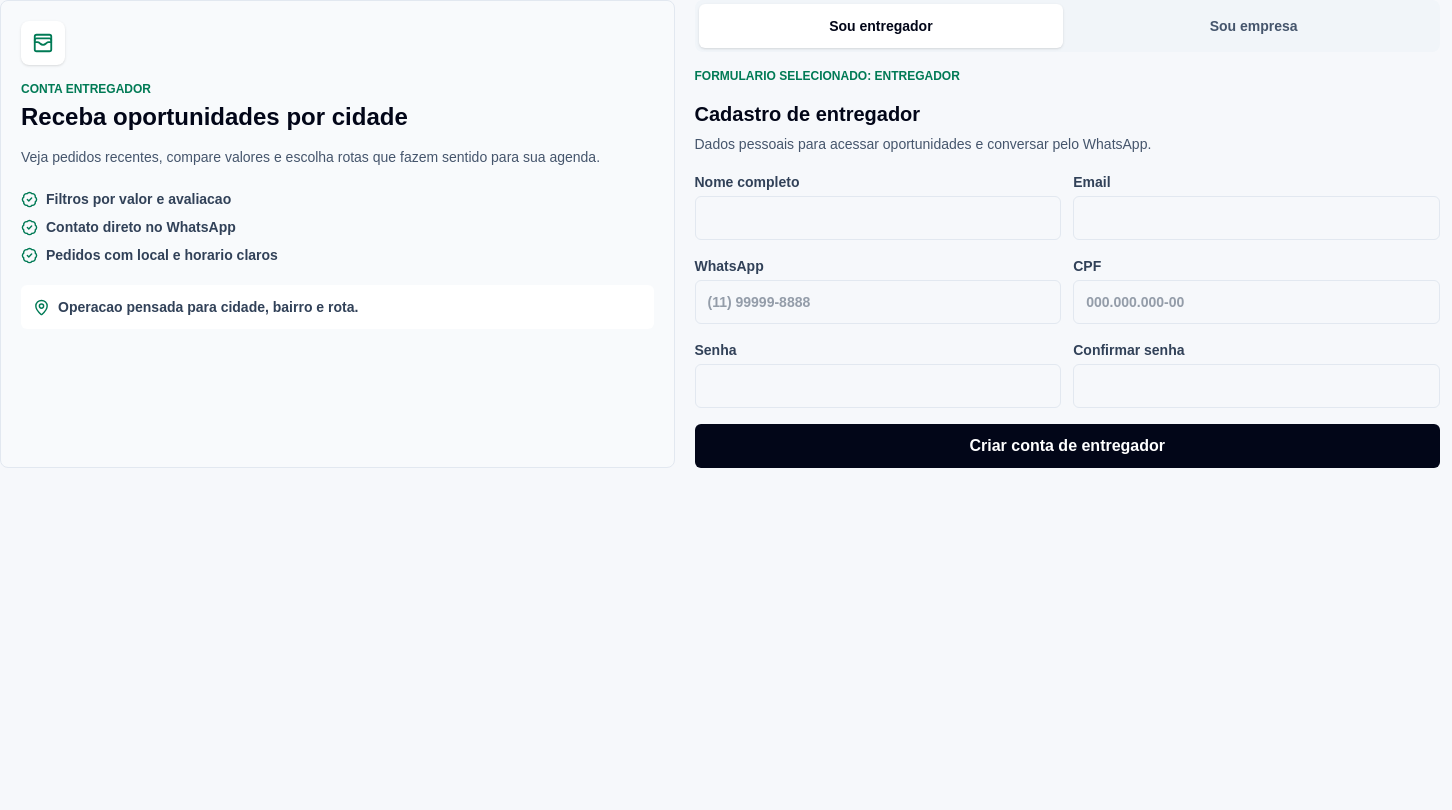
Test: delivery UI › shows registration benefits by account type
Expected: the heading "Receba oportunidades por cidade" is shown, x1=21 y1=103 x2=408 y2=130
Click the button "Sou empresa" at (1254, 26), box x1=1071 y1=4 x2=1436 y2=48
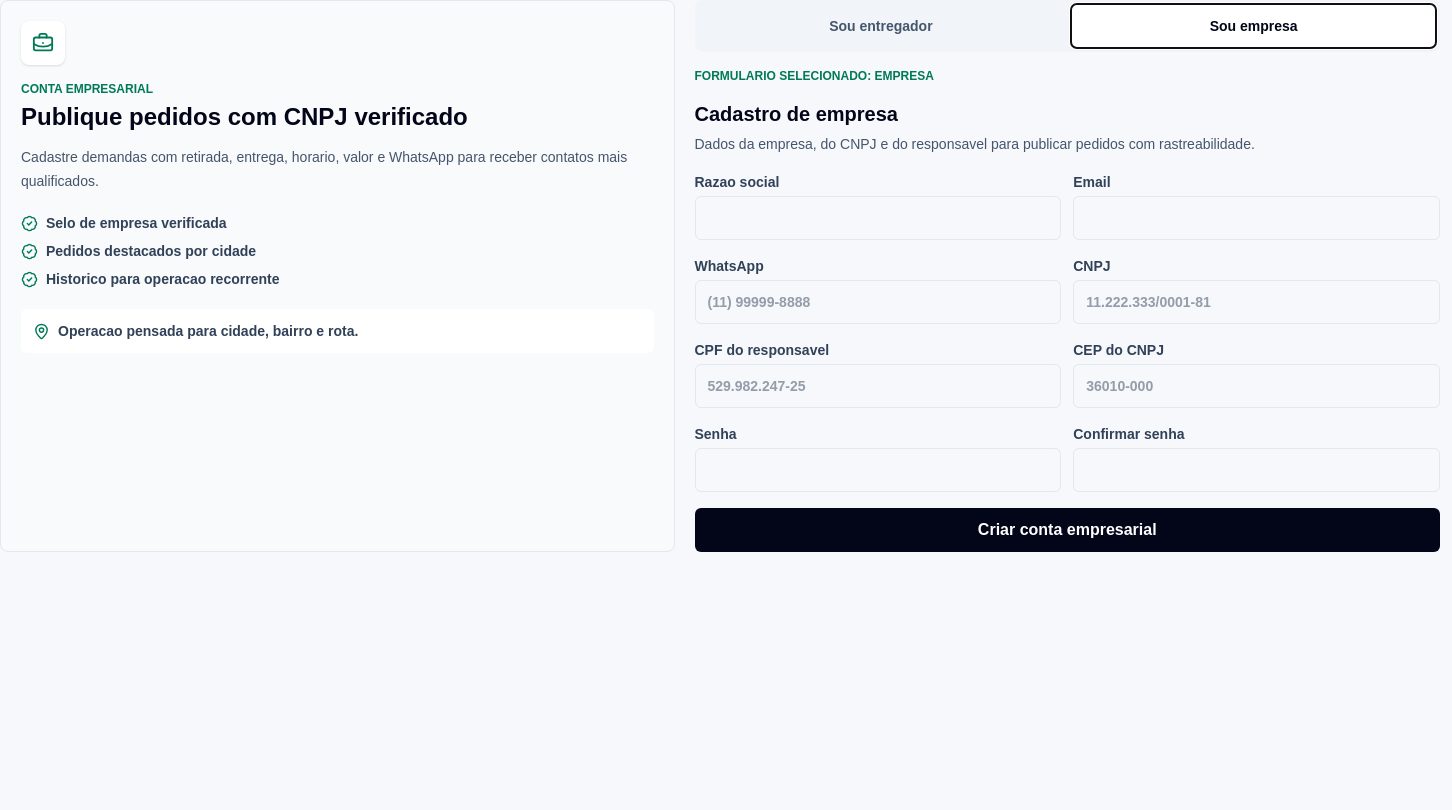
Expected: the heading "Publique pedidos com CNPJ verificado" is shown, x1=21 y1=103 x2=468 y2=130
